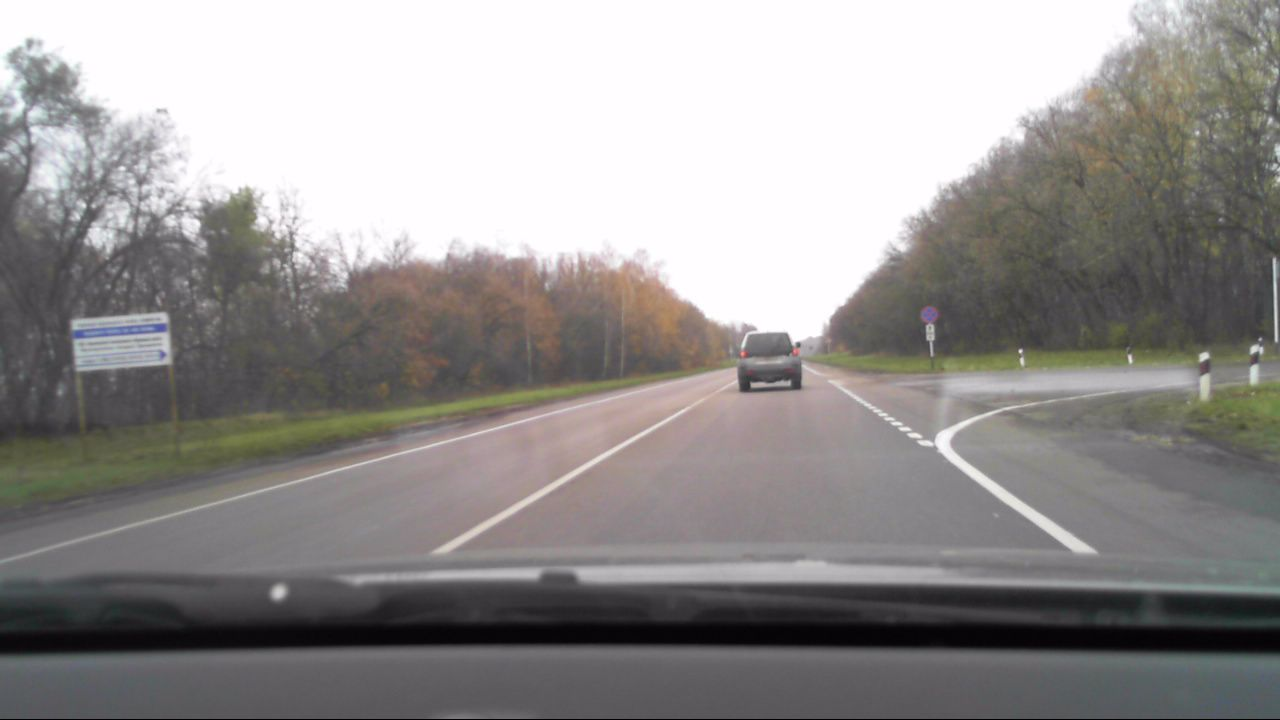No Parking: (918, 305, 936, 321)
